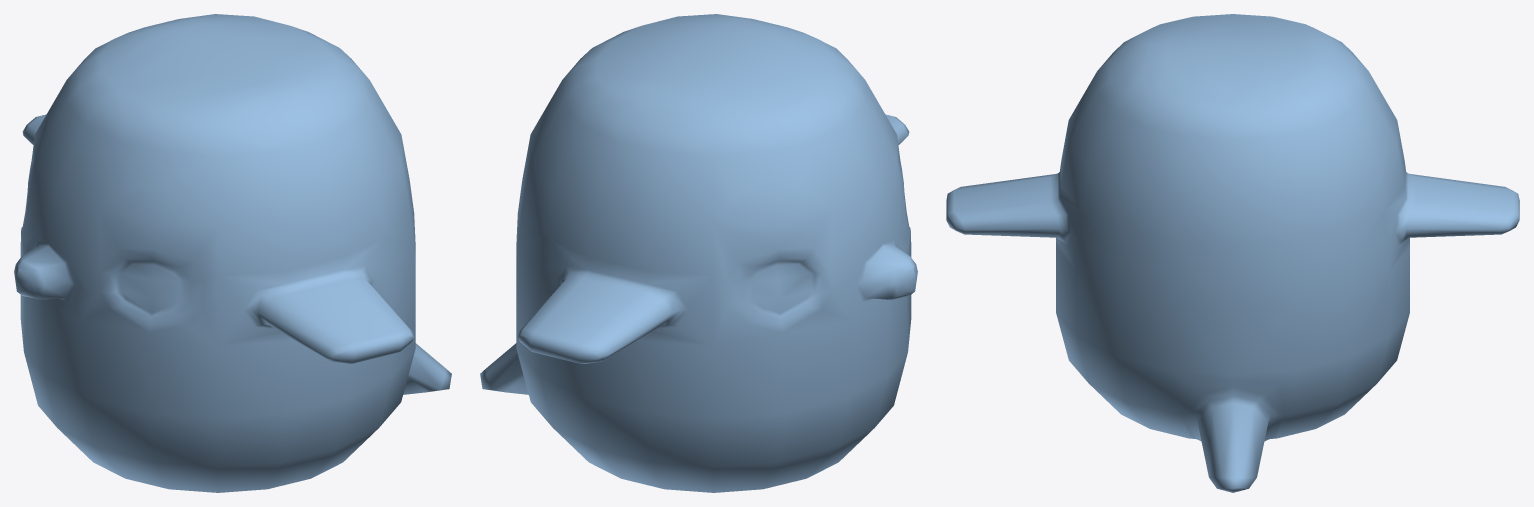
Rendered from penguA.FBX.
The picture shows the model from 3 angles, left to right: view 1: azimuth 30°, elevation 25°; view 2: azimuth 150°, elevation 25°; view 3: azimuth 270°, elevation 25°; orthographic projection. The views are drawn at different scales.
Parts seen in each view (by area): view 1: penguA; view 2: penguA; view 3: penguA.
Boxes of the visible parts, x1,y1,x2,y2 form: penguA: (14, 14, 451, 492); penguA: (480, 14, 917, 492); penguA: (946, 14, 1519, 492).
Size of the model in its own units: 2.01 by 1.7 by 2.55.
